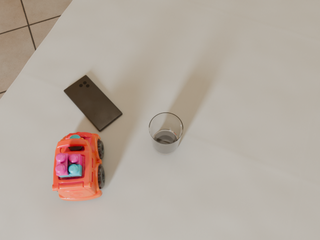cup: (149, 113, 183, 155)
phone: (64, 75, 122, 132)
toy_car: (52, 132, 105, 201)
